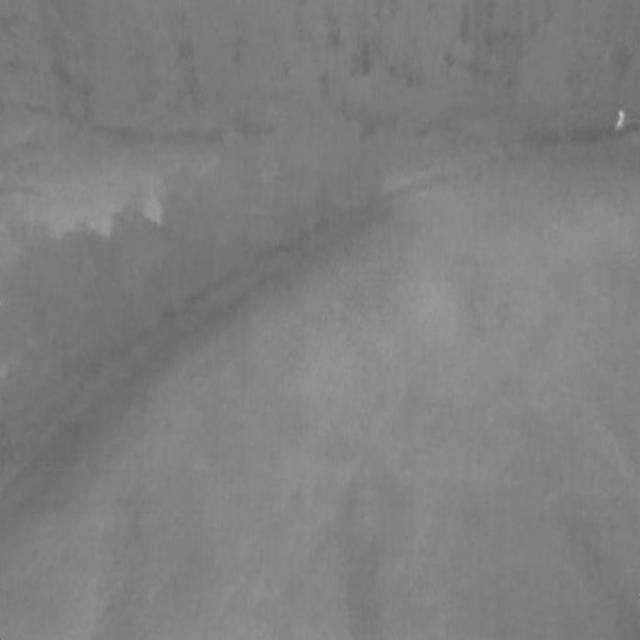person: (615, 110, 628, 133)
